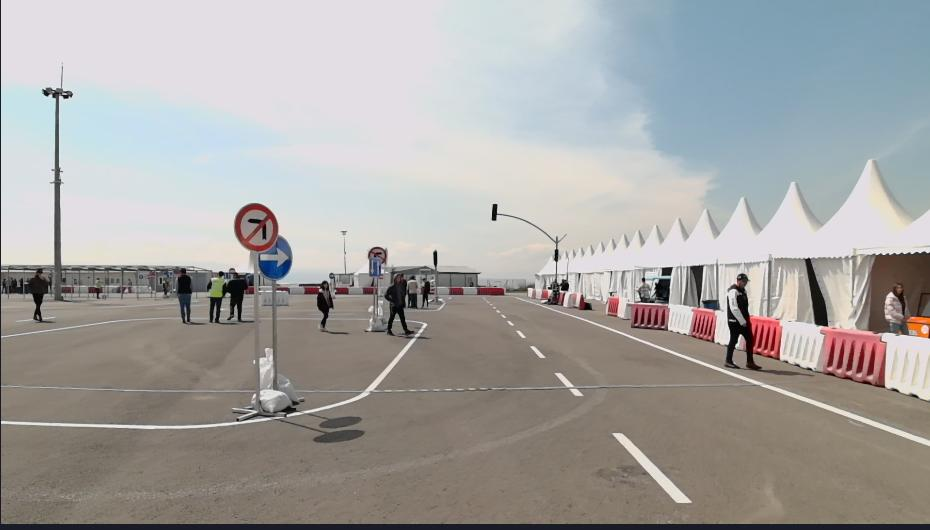nesne: (3, 294, 928, 524), (2, 297, 720, 528), (483, 294, 928, 528), (514, 296, 929, 445), (0, 316, 425, 428), (751, 313, 929, 400), (42, 62, 71, 299), (610, 431, 692, 503), (627, 301, 727, 344), (0, 315, 179, 339), (819, 328, 886, 384), (724, 272, 757, 373), (883, 334, 929, 402), (255, 344, 298, 413), (497, 210, 568, 249), (778, 320, 822, 370), (233, 203, 278, 249), (386, 272, 415, 334), (257, 234, 292, 280), (884, 281, 909, 338), (749, 314, 780, 356), (25, 263, 46, 321), (627, 301, 670, 329), (206, 270, 226, 321), (228, 270, 248, 321), (906, 292, 928, 334), (440, 284, 504, 298), (176, 268, 192, 322), (230, 406, 283, 421), (689, 308, 713, 341), (317, 280, 333, 329), (554, 370, 582, 397), (270, 280, 277, 386), (255, 246, 260, 388), (668, 304, 692, 333), (365, 301, 387, 332), (601, 298, 627, 320), (648, 276, 669, 301), (559, 291, 584, 310), (637, 276, 655, 301), (713, 312, 726, 344), (275, 285, 316, 294), (418, 273, 429, 306), (367, 246, 387, 264), (339, 229, 347, 274), (547, 275, 559, 304), (604, 297, 620, 317), (334, 286, 371, 294), (408, 272, 416, 308), (432, 250, 437, 301), (529, 343, 547, 357), (366, 258, 380, 276), (527, 289, 547, 301), (372, 275, 377, 321), (159, 270, 168, 295), (703, 296, 718, 310), (276, 291, 288, 306), (124, 274, 133, 294), (93, 276, 101, 298), (478, 286, 502, 293), (461, 286, 481, 294), (436, 286, 452, 296), (260, 291, 270, 307), (451, 285, 467, 294), (490, 202, 497, 222), (559, 278, 569, 292), (620, 301, 628, 318), (276, 286, 289, 295), (288, 287, 304, 294), (513, 328, 524, 337), (303, 287, 317, 294), (334, 287, 348, 294), (348, 287, 362, 294), (554, 248, 559, 262), (362, 287, 371, 294)
